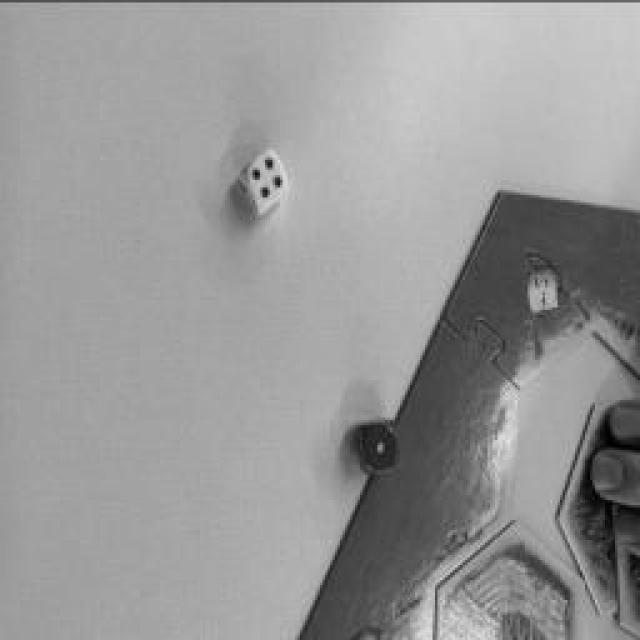dice_1: (361, 420, 399, 470)
dice_4: (248, 150, 288, 205)
